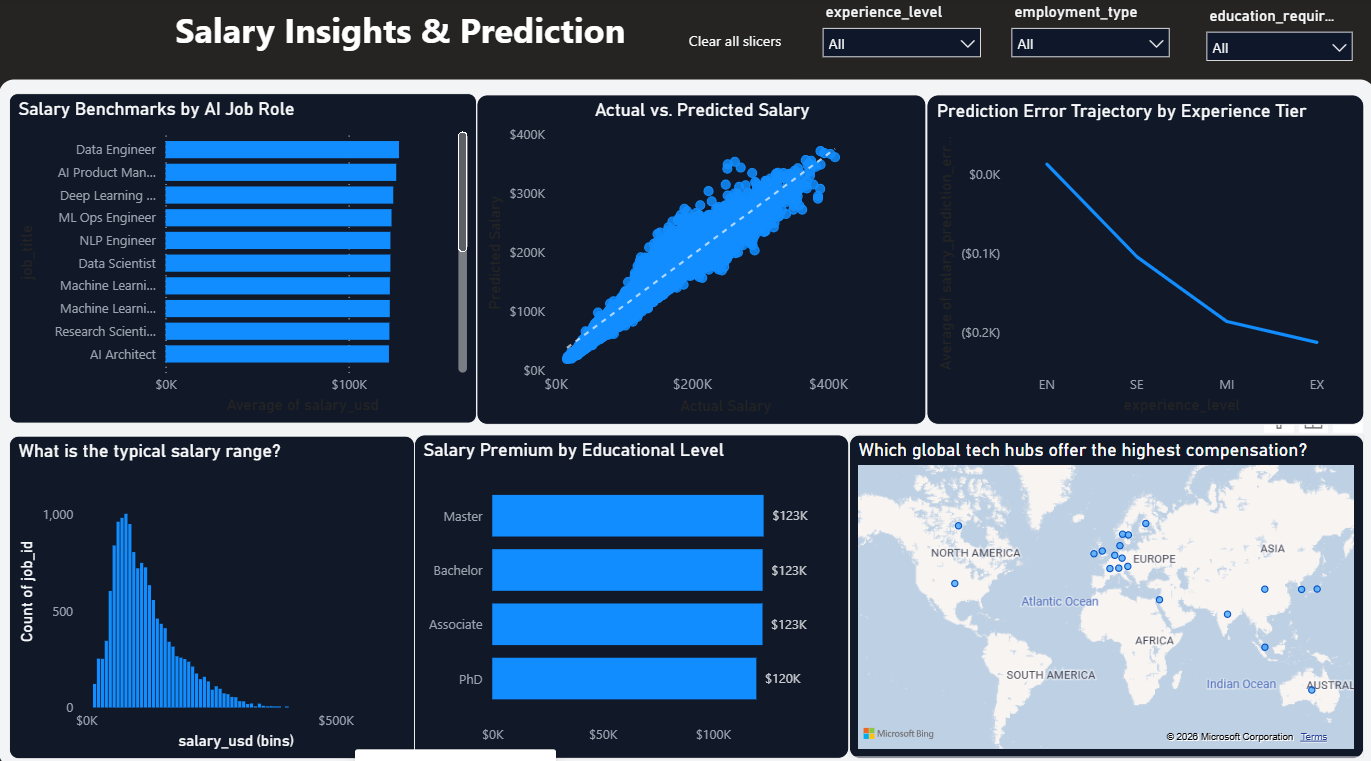

The dashboard page shown, as its layout file describes it:
{"tool":"powerbi","page":{"name":" Salary Insights & Prediction","canvas":[1280,720],"ordinal":1},"visuals":[{"type":"shape","box":[0,76.9,1280.3,640.1],"z":0},{"type":"textbox","box":[0,3.7,741.9,73.2],"z":1000},{"type":"slicer","fields":{"Values":["ai_jobs_predictions_final.experience_level"]},"box":[755.6,0,167.9,76.5],"z":2000},{"type":"slicer","fields":{"Values":["ai_jobs_predictions_final.education_required"]},"box":[1112.3,3.7,156.8,72.8],"z":3000},{"type":"slicer","fields":{"Values":["ai_jobs_predictions_final.employment_type"]},"box":[930.9,0,167.9,76.5],"z":4000},{"type":"actionButton","box":[612.4,24.4,143.8,30.8],"z":5000},{"type":"scatterChart","title":"Actual vs. Predicted Salary","fields":{"X":["Sum(ai_jobs_predictions_final.salary_usd)"],"Category":["ai_jobs_predictions_final.job_id"],"Y":["Sum(ai_jobs_predictions_final.predicted_salary_usd)"]},"box":[444.2,91.2,418.5,306.8],"z":6000},{"type":"clusteredColumnChart","title":"What is the typical salary range?","fields":{"Y":["CountNonNull(ai_jobs_predictions_final.job_id)"],"Category":["ai_jobs_predictions_final.salary_usd (bins)"]},"box":[9,407.6,377.5,300.8],"z":7000},{"type":"clusteredBarChart","title":"Salary Benchmarks by AI Job Role","fields":{"Category":["ai_jobs_predictions_final.job_title"],"Y":["Avg(ai_jobs_predictions_final.salary_usd)"]},"box":[9,89.9,435.2,306.8],"z":8000},{"type":"map","title":"Which global tech hubs offer the highest compensation?","fields":{"Category":["ai_jobs_predictions_final.company_location"]},"box":[790.9,407,478.9,301.7],"z":9000},{"type":"barChart","title":"Salary Premium by Educational Level","fields":{"Category":["ai_jobs_predictions_final.education_required"],"Y":["Avg(ai_jobs_predictions_final.salary_usd)"]},"box":[385.8,406.9,404.4,301.5],"z":10000},{"type":"lineChart","title":"Prediction Error Trajectory by Experience Tier","fields":{"Y":["Avg(ai_jobs_predictions_final.salary_prediction_error)"],"Category":["ai_jobs_predictions_final.experience_level"]},"box":[862.7,91.2,407,306.8],"z":11000}]}

Visuals, with their boxes in screenshot pixels (x1, y1, x2, y2), scaled from the page's 1280x720 canvas onto the 1371x761 screenshot:
shape: locate(0, 81, 1370, 758)
textbox: locate(0, 4, 795, 81)
slicer - ai_jobs_predictions_final.experience_level: locate(809, 0, 989, 81)
slicer - ai_jobs_predictions_final.education_required: locate(1191, 4, 1359, 81)
slicer - ai_jobs_predictions_final.employment_type: locate(997, 0, 1177, 81)
actionButton: locate(656, 26, 810, 58)
"Actual vs. Predicted Salary" scatterChart: locate(476, 96, 924, 421)
"What is the typical salary range?" clusteredColumnChart: locate(10, 431, 414, 749)
"Salary Benchmarks by AI Job Role" clusteredBarChart: locate(10, 95, 476, 419)
"Which global tech hubs offer the highest compensation?" map: locate(847, 430, 1360, 749)
"Salary Premium by Educational Level" barChart: locate(413, 430, 846, 749)
"Prediction Error Trajectory by Experience Tier" lineChart: locate(924, 96, 1360, 421)
